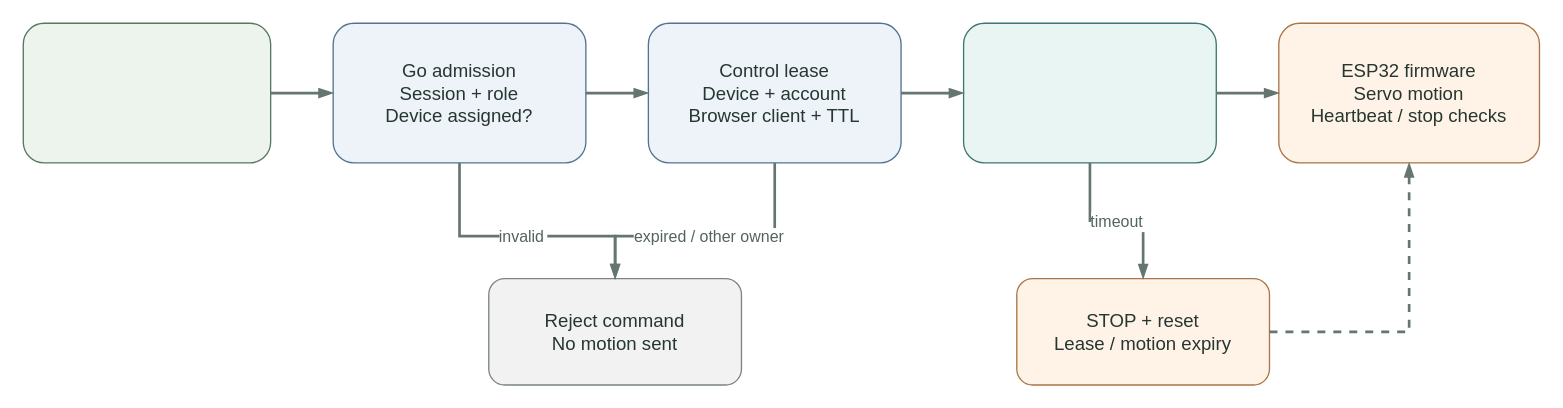
Some shapes in this 1563 by 408 pixel diagram are drawn without their labels. The box of each missing label's shape, as (x1, y1, x2, y2) in pixels:
Browser input Key / button Account + client: (22, 22, 271, 163)
Motion queue Expiry before send STOP clears stale motion: (962, 22, 1216, 163)
